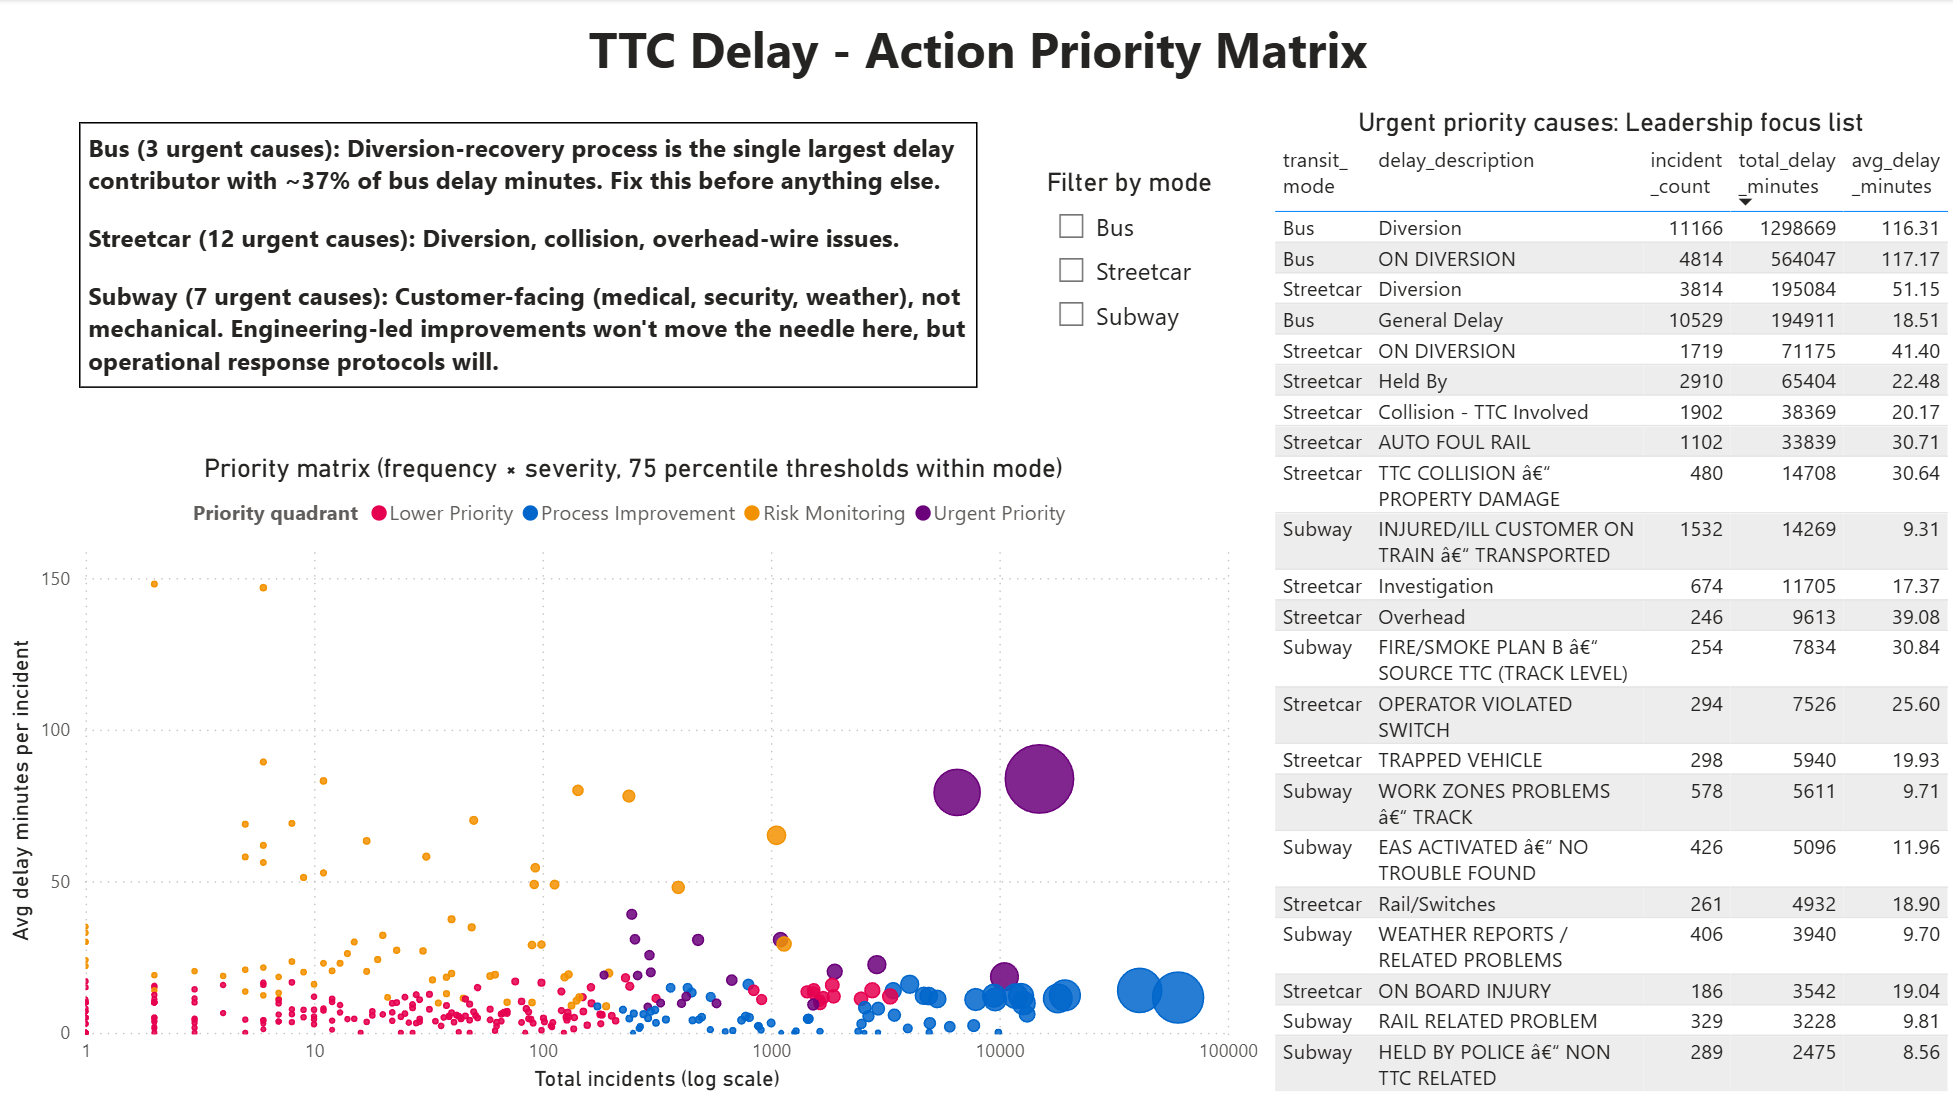

Layout of this report page (visuals, bound fields, positions):
{"tool":"powerbi","page":{"name":"Action Priority","canvas":[1280,720],"ordinal":4},"visuals":[{"type":"textbox","box":[0,5.2,1280,56.9],"z":0},{"type":"scatterChart","title":"Priority matrix (frequency × severity, 75 percentile thresholds within mode)","fields":{"Category":["public vw_priority_matrix.delay_description"],"X":["Sum(public vw_priority_matrix.incident_count)"],"Y":["Avg(public vw_priority_matrix.avg_delay_minutes)"],"Size":["Sum(public vw_priority_matrix.total_delay_minutes)"],"Series":["public vw_priority_matrix.priority_quadrant"]},"box":[0,297.1,828.5,422.7],"z":1000},{"type":"slicer","title":"Filter by mode","fields":{"Values":["public dim_mode.transit_mode"]},"box":[679.9,109.9,120.4,115.2],"z":2000},{"type":"tableEx","title":"Urgent priority causes: Leadership focus list","fields":{"Values":["public vw_priority_matrix.transit_mode","public vw_priority_matrix.delay_description","public vw_priority_matrix.incident_count","public vw_priority_matrix.total_delay_minutes","public vw_priority_matrix.avg_delay_minutes"]},"box":[828.5,70.7,451.5,649.2],"z":2001},{"type":"textbox","box":[51.7,80.5,588.3,174.1],"z":2002}]}

Visuals, with their boxes in screenshot pixels (x1, y1, x2, y2), scaled from the page's 1280x720 canvas onto the 1953x1098 screenshot:
textbox: 0,8,1952,95
"Priority matrix (frequency × severity, 75 percentile thresholds within mode)" scatterChart: 0,453,1264,1097
"Filter by mode" slicer: 1037,168,1221,343
"Urgent priority causes: Leadership focus list" tableEx: 1264,108,1952,1097
textbox: 79,123,976,388
